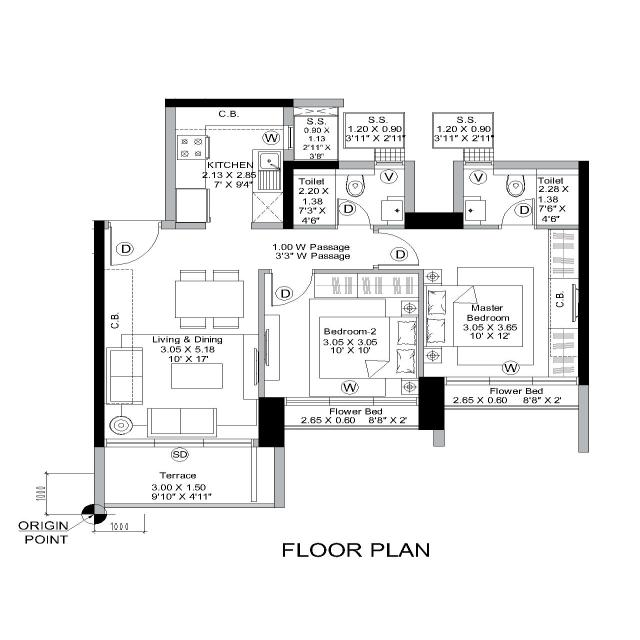Column: (282, 160, 341, 230), (92, 220, 106, 448), (577, 160, 590, 386), (417, 376, 446, 431), (257, 396, 287, 448), (163, 98, 294, 109), (404, 212, 464, 230)
Door: (107, 220, 163, 230), (268, 268, 316, 274), (334, 224, 374, 230), (498, 224, 538, 230), (373, 230, 379, 268)
Sliding Door: (102, 438, 260, 448)
Ventilator: (462, 160, 495, 170), (374, 160, 406, 170)
Window: (282, 396, 420, 407), (442, 376, 580, 386), (282, 124, 294, 151)
